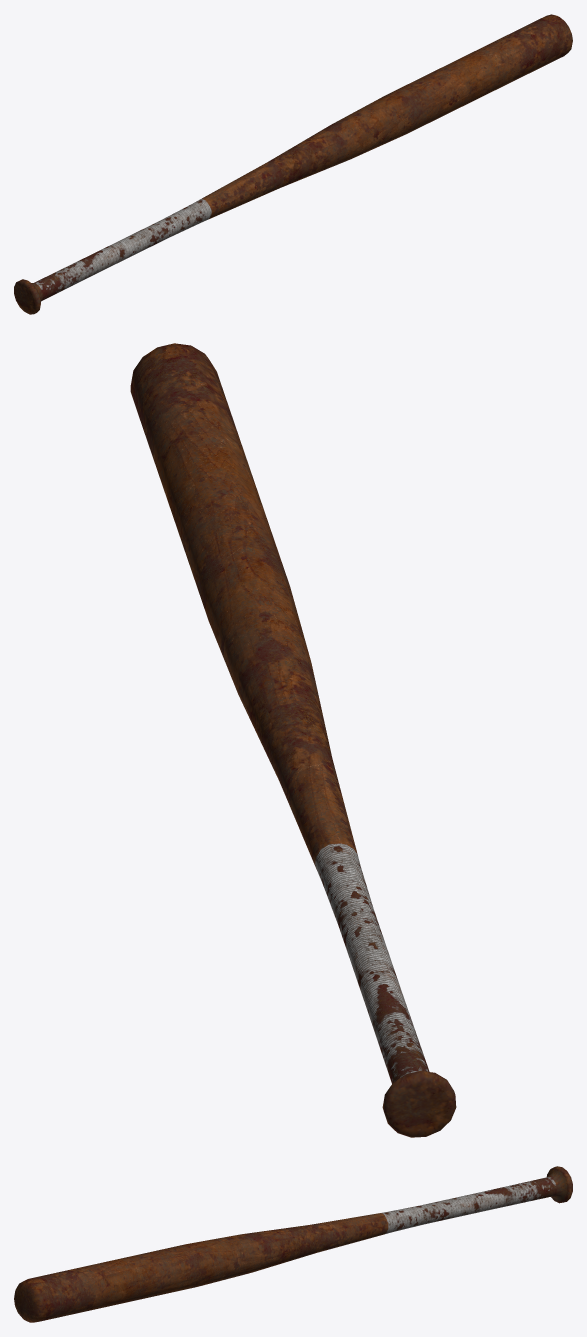
Rendered from Anim_idle_bate_objetos.0055.obj.
3 views of the same model, one above another, from view 1: azimuth 90°, elevation 25°; view 2: azimuth 150°, elevation 25°; view 3: azimuth 270°, elevation 25° (orthographic). The views are drawn at different scales.
Parts seen in each view (by area): view 1: Bate1; view 2: Bate1; view 3: Bate1.
Part boxes in pixels (x1=…): Bate1: x1=14, y1=14, x2=572, y2=314; Bate1: x1=130, y1=343, x2=456, y2=1137; Bate1: x1=14, y1=1166, x2=572, y2=1322.
Bounding box in the file's own units: 3.62 × 0.9064 × 4.21.
